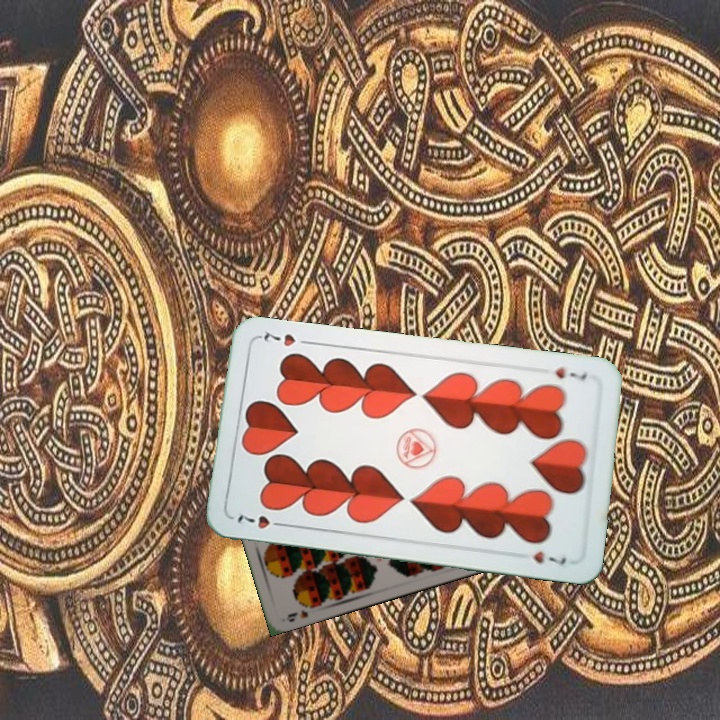H7: (233, 511, 289, 531), (551, 363, 590, 383)
S9: (283, 599, 319, 624)
